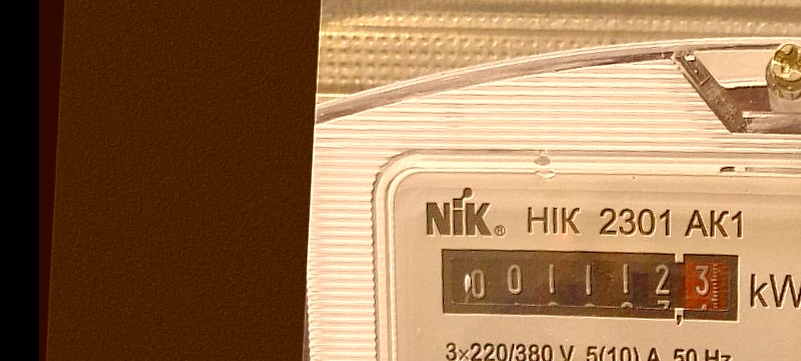0: (503, 259, 527, 299), (467, 265, 490, 301)
1: (542, 258, 562, 297), (580, 259, 596, 298), (618, 259, 634, 297)
2: (651, 261, 675, 298)
3: (692, 262, 712, 298)
screen: (432, 236, 749, 333)
